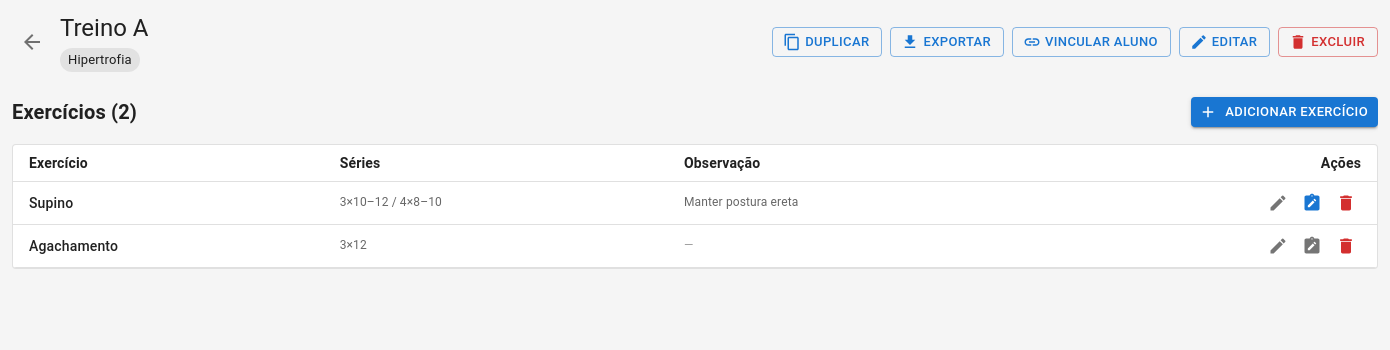
Test: DetalheFichaPage — Duplicar ficha › erro na duplicação mostra banner e reabilita o botão
Click the button "Duplicar".
click(827, 42)  # box 772,27 -> 882,57
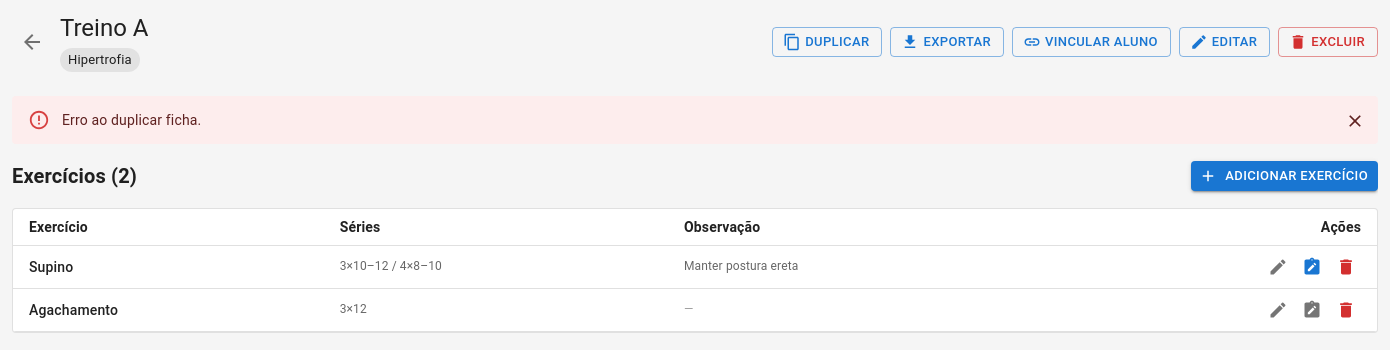
Check: the text "Erro ao duplicar ficha." is shown, box 62,112 -> 201,128
